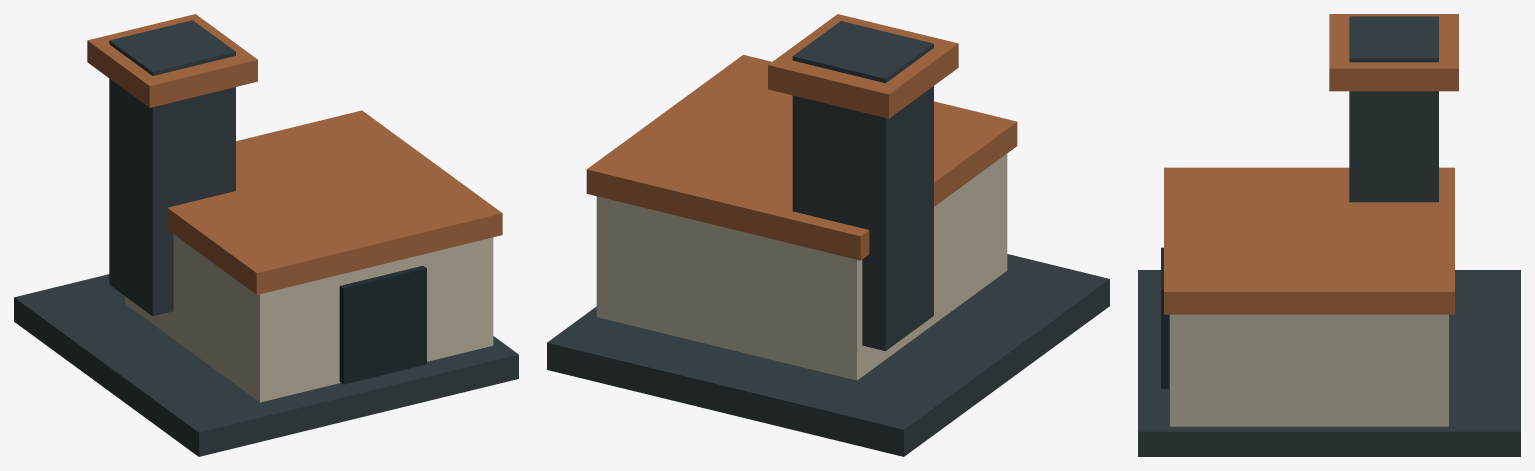
File: mine-lod1.8d1b0153ac22.glb
3 views of the same model, side by side, from view 1: azimuth 30°, elevation 25°; view 2: azimuth 150°, elevation 25°; view 3: azimuth 270°, elevation 25° (orthographic). The views are drawn at different scales.
Visible parts, largest first — view 1: body; view 2: body; view 3: body.
Part boxes in pixels (x1,y1,x2,y2): body: (14,14,518,456); body: (547,14,1109,456); body: (1138,14,1520,456).
Size of the model in its own units: 3.84 by 3.4 by 3.84.
